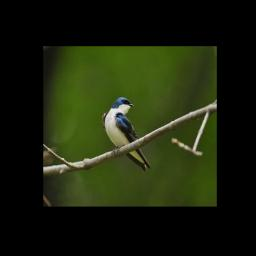Swallow: (102, 96, 152, 172)
